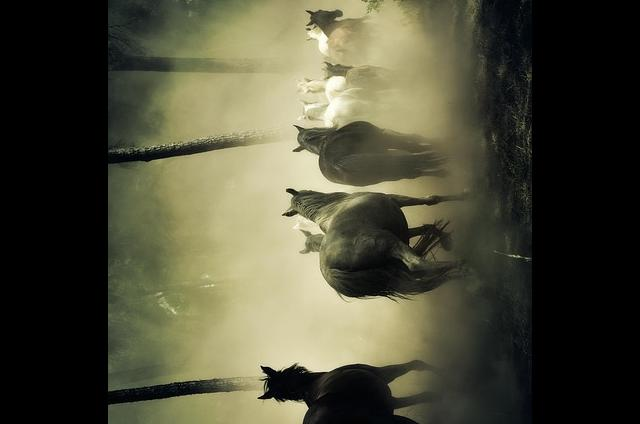Non_Gorille: (181, 0, 473, 424)
